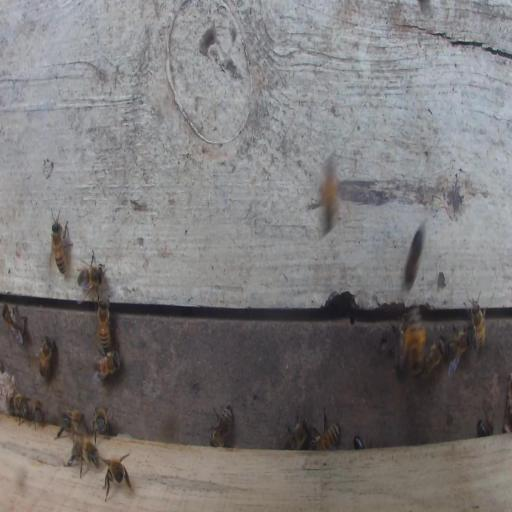bee: (101, 452, 133, 501), (320, 153, 340, 231), (404, 304, 426, 372), (442, 325, 470, 378), (68, 434, 100, 477), (76, 249, 105, 296), (405, 222, 425, 290), (1, 302, 28, 346), (468, 289, 486, 355), (209, 403, 233, 448), (417, 339, 444, 379), (55, 408, 87, 439), (94, 295, 111, 353), (282, 413, 308, 450), (311, 422, 341, 450), (38, 334, 56, 379), (93, 350, 120, 380), (52, 221, 65, 275), (395, 313, 407, 371), (92, 405, 110, 439), (11, 393, 29, 419), (476, 419, 493, 437), (32, 399, 43, 423), (353, 434, 366, 449)
